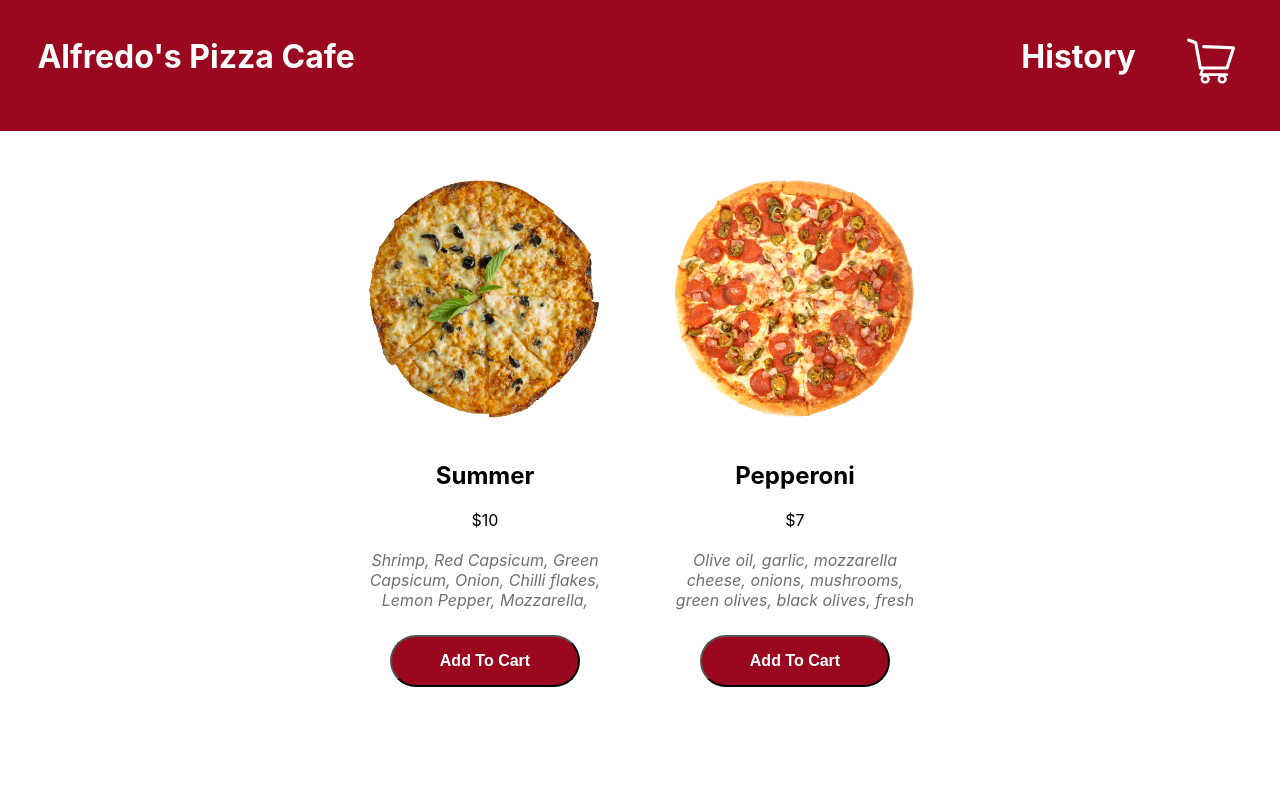
Test: increases the number of products
Click the button "Add To Cart" below "Summer": (485, 661) [390,635,580,687]
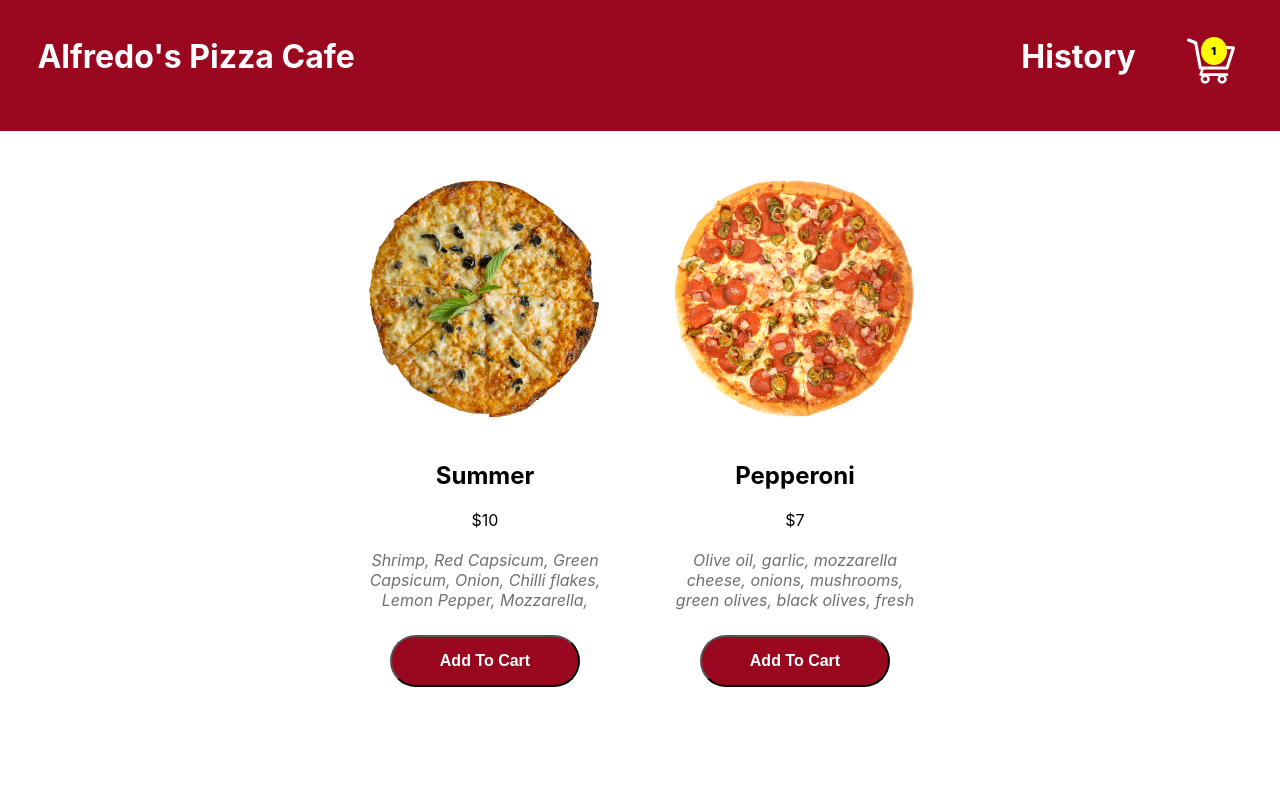
Click the button "Add To Cart" below "Summer": (485, 661) [390,635,580,687]
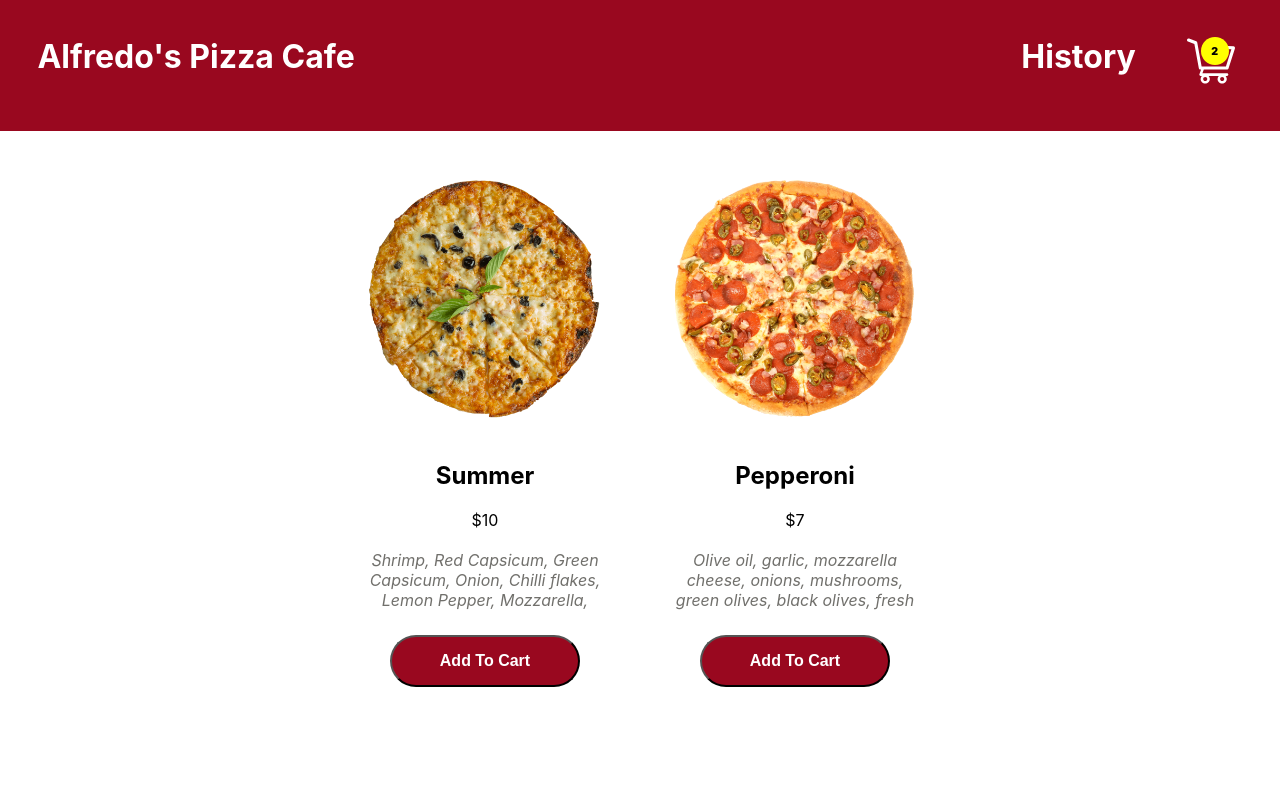
Click the button "Add To Cart" below "Pepperoni": (795, 661) [700,635,890,687]
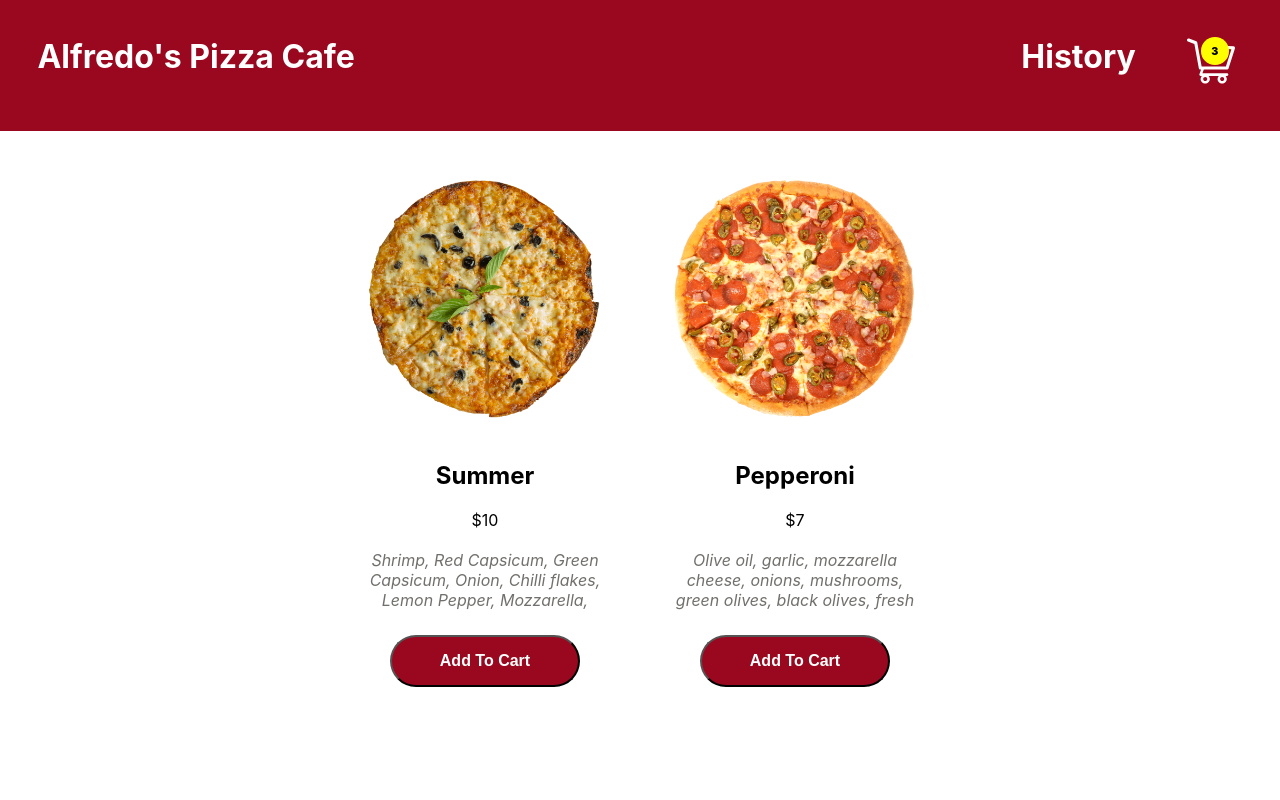
Click the button "Add To Cart" below "Pepperoni": (795, 661) [700,635,890,687]
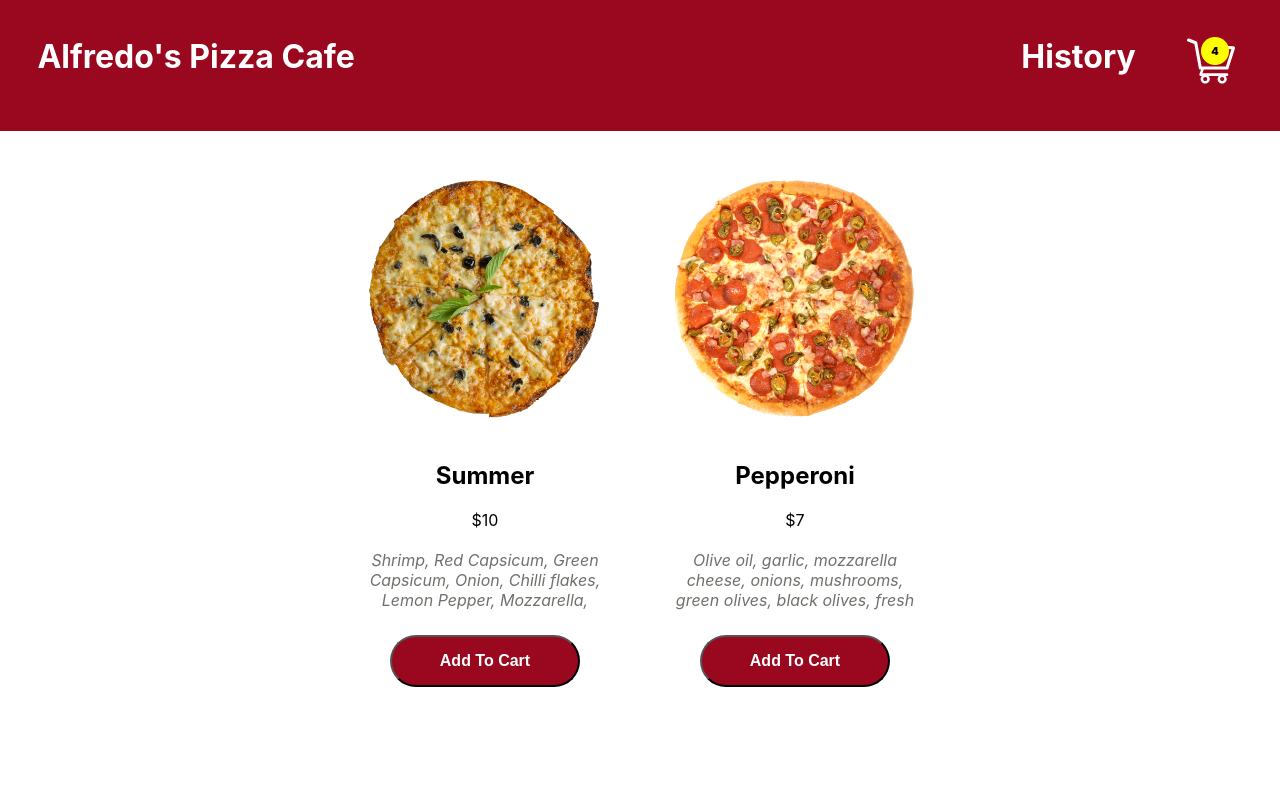
Click the link with class "CartButton": (1211, 37) [1179,37,1243,93]
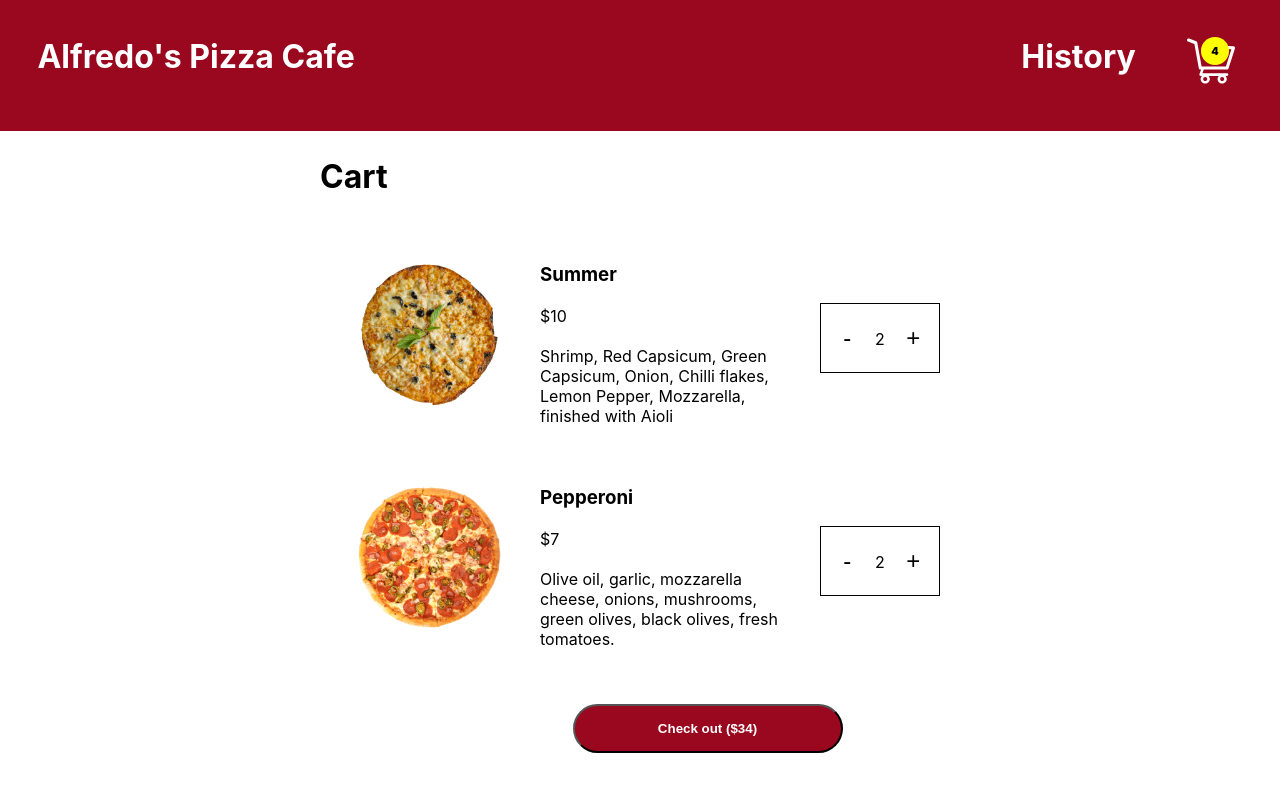
Click the button "+" in the row of "$10": (913, 338) [896,314,929,362]
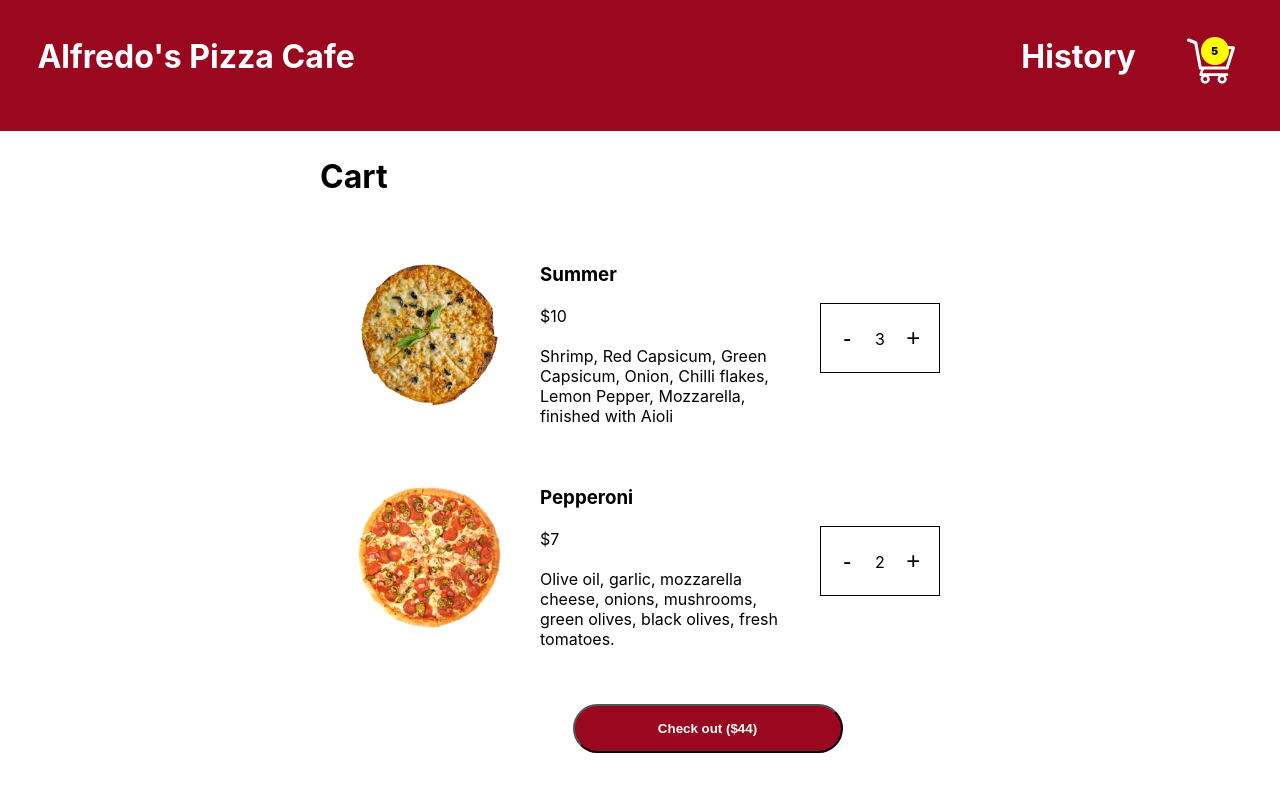
Expected: the text with class "CartButton-counter" reads "5", [1211,45,1218,58]
